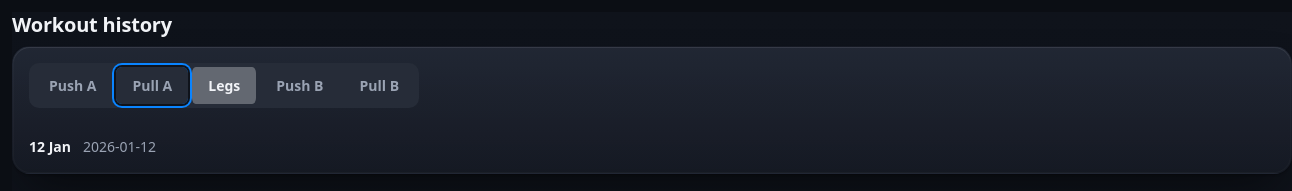
Test: FitnessHistory › selects a tab by keyboard activation and moves focus with Tab
Click the tab "Pull A". click: x=152, y=86
box: [116,67,188,104]
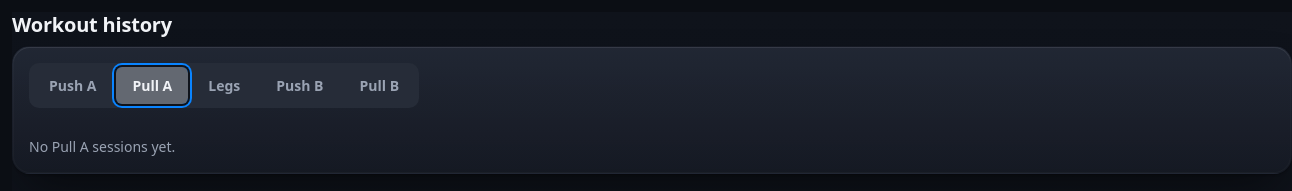
Expected: the text "No Pull A sessions yet." is shown, [29,137,175,156]
